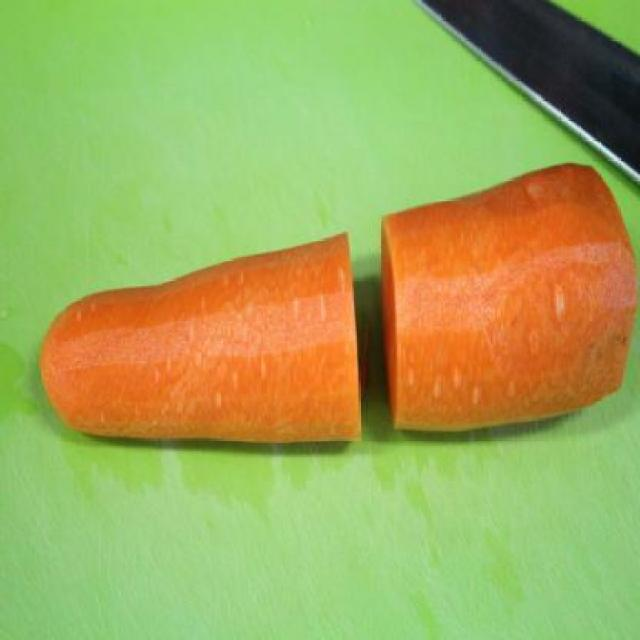carrot: (373, 153, 640, 440), (39, 229, 370, 456)
